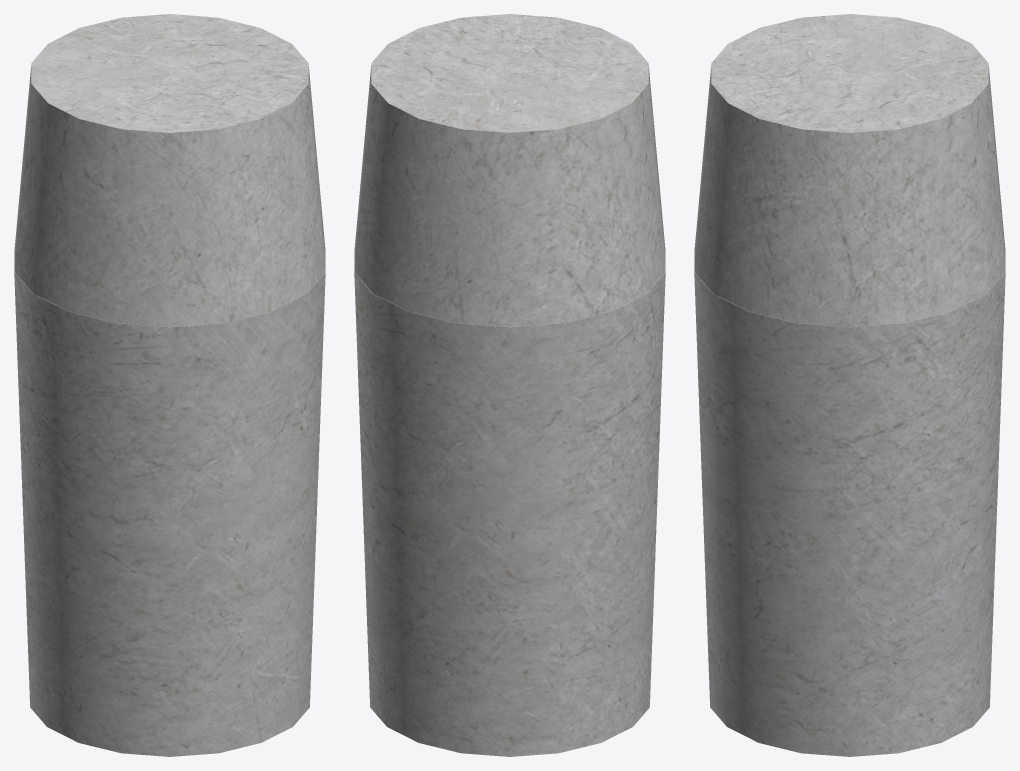
Rendered from ShakerClosed.FBX.
3 renders of one model, left to right at view 1: azimuth 30°, elevation 25°; view 2: azimuth 150°, elevation 25°; view 3: azimuth 270°, elevation 25°, orthographic.
Visible parts, largest first — view 1: Bot, Top; view 2: Bot, Top; view 3: Bot, Top.
Boxes of the visible parts, x1,y1,x2,y2 form: Bot: (14,249,325,756); Top: (14,14,325,326); Bot: (354,249,665,756); Top: (354,14,665,326); Bot: (694,249,1005,756); Top: (694,14,1005,326).
Bounding box in the file's own units: 9.19 × 20 × 9.05.
